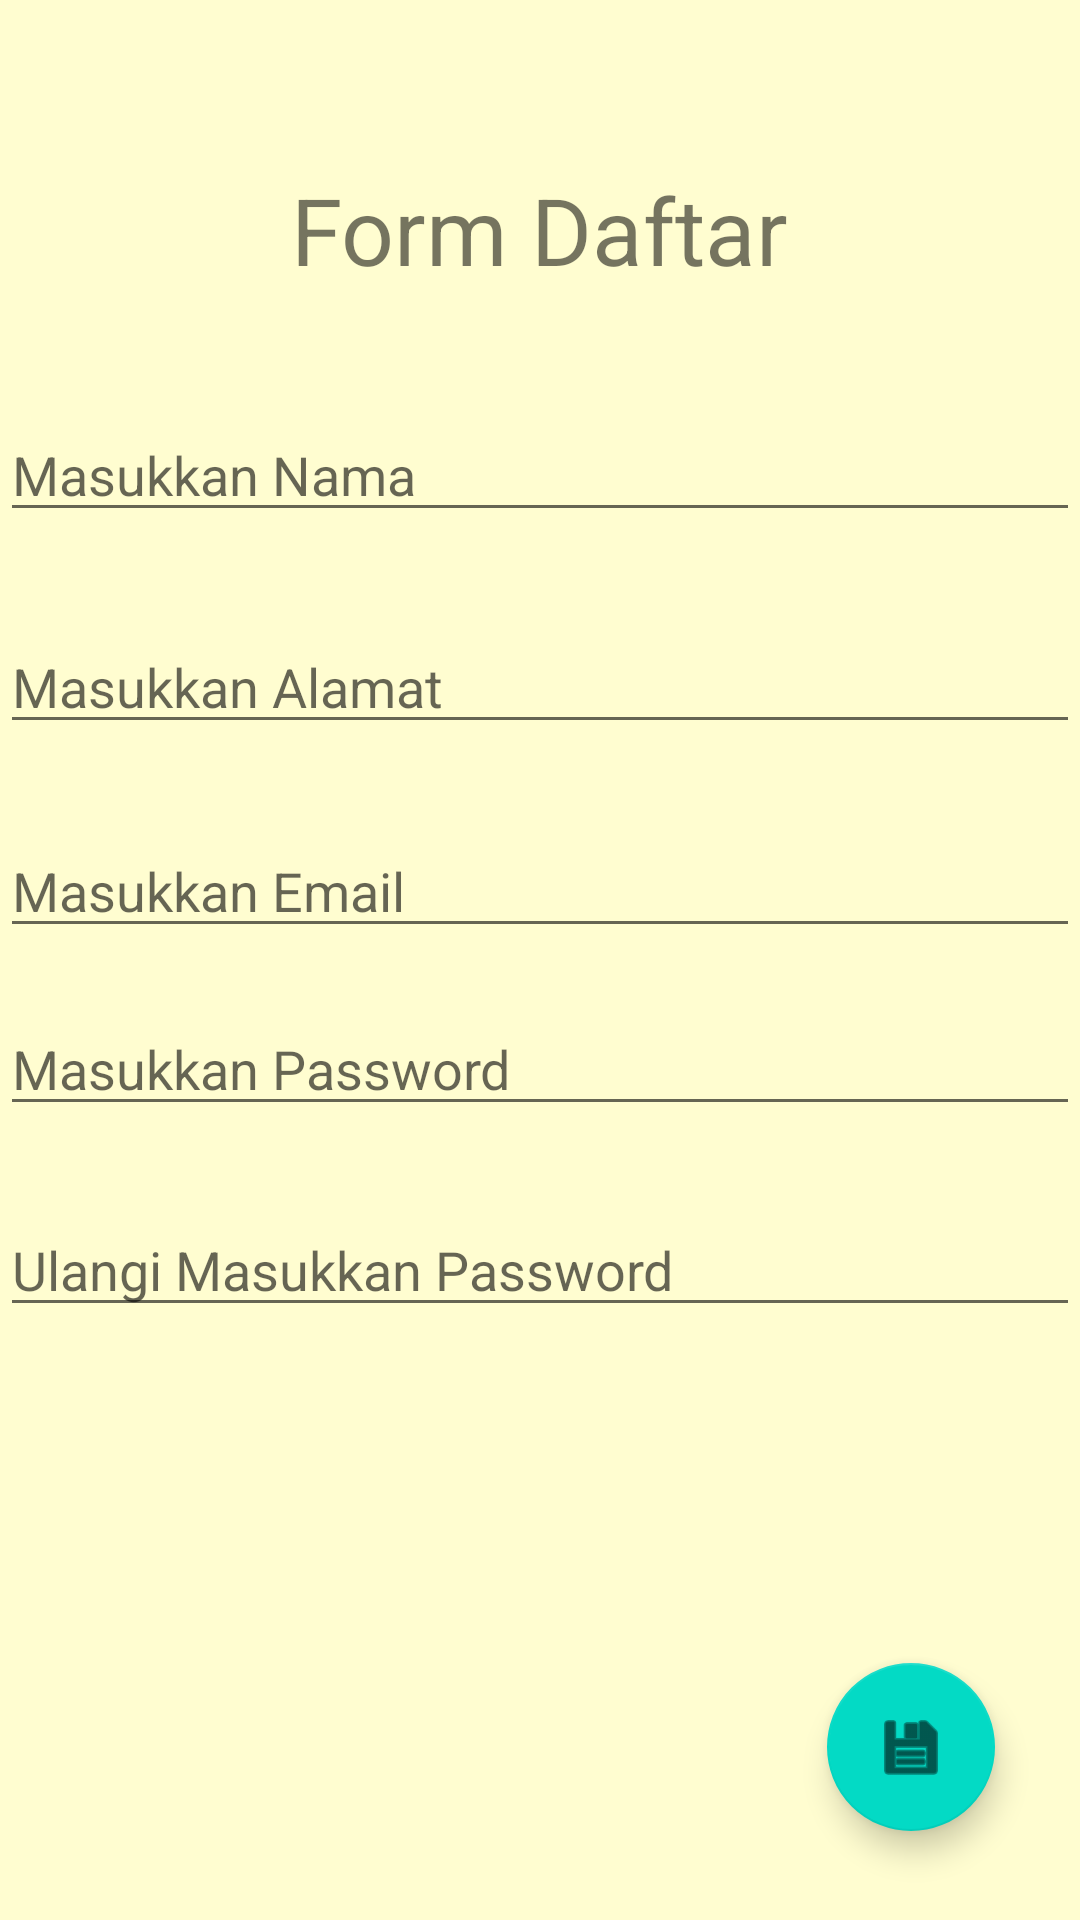

Locate icon controls on the screen. Image size 1080px x 1920px, boxes as (x1, y1, x2, y2).
save: (827, 1663, 995, 1831)
